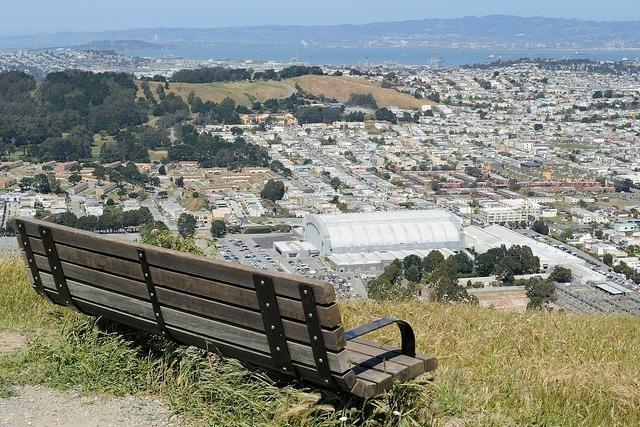car: (246, 254, 252, 262), (302, 266, 310, 270), (260, 252, 266, 255), (246, 251, 252, 254), (225, 258, 231, 260), (256, 260, 260, 262), (239, 250, 244, 251)
